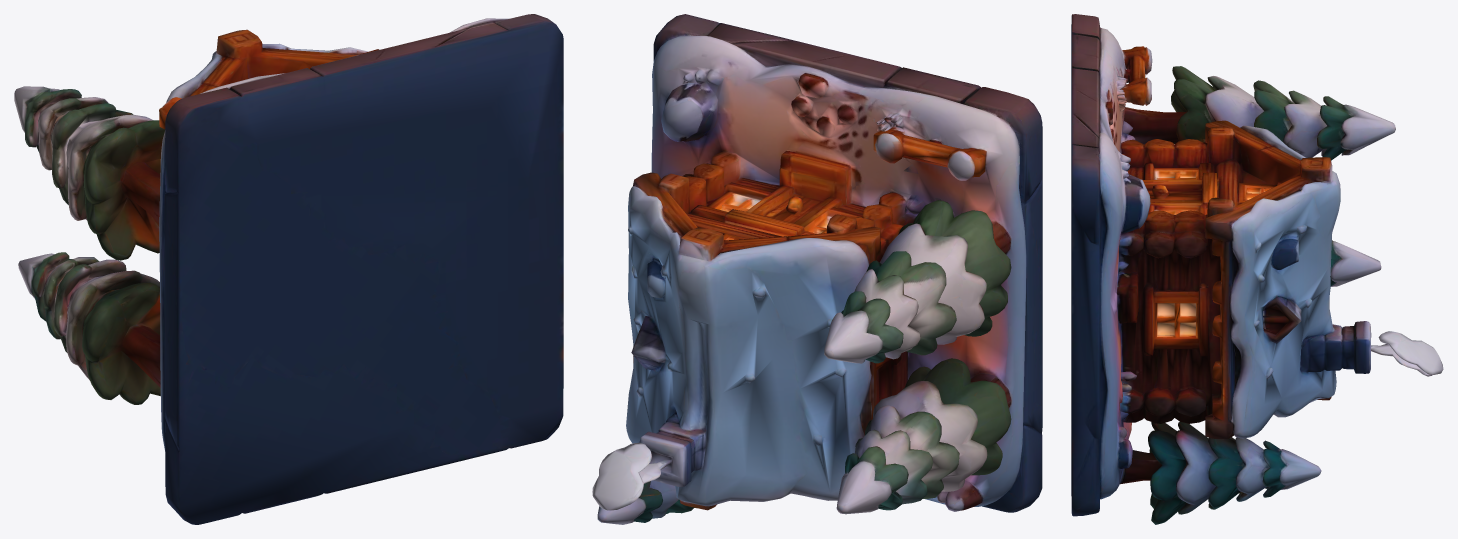
3 renders of one model, left to right at view 1: azimuth 30°, elevation 25°; view 2: azimuth 150°, elevation 25°; view 3: azimuth 270°, elevation 25°, orthographic. The views are drawn at different scales.
Visible parts, largest first — view 1: material; view 2: material; view 3: material.
Boxes of the visible parts, left/top/right/bottom form: material: left=14, top=14, right=563, bottom=524; material: left=592, top=14, right=1042, bottom=524; material: left=1071, top=14, right=1443, bottom=524.
Size of the model in its own units: 0.9718 by 1 by 0.8888.
1 material, 1 textured.
